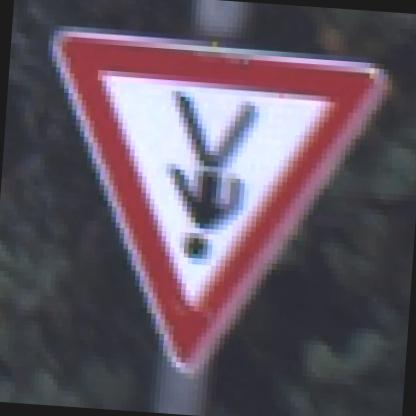crosswalk: (24, 9, 388, 374)
